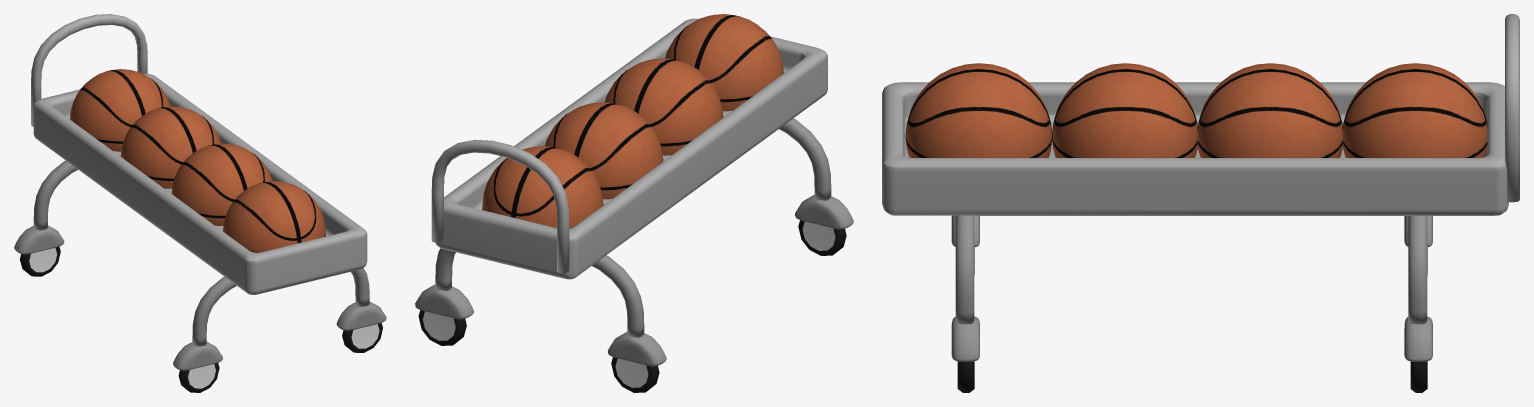
The model's file is Ball_stand.fbx.
The picture shows the model from 3 angles, left to right: view 1: azimuth 30°, elevation 25°; view 2: azimuth 150°, elevation 25°; view 3: azimuth 270°, elevation 25°; orthographic projection. The views are drawn at different scales.
Parts seen in each view (by area): view 1: Ball_stand, Ball_01, Ball_02, Ball_03, Ball_04; view 2: Ball_stand, Ball_01, Ball_02, Ball_03, Ball_04; view 3: Ball_stand, Ball_01, Ball_02, Ball_03, Ball_04.
Part boxes in pixels (box(x1,y1,x2,y2)): Ball_stand: box(14, 14, 386, 392); Ball_01: box(223, 181, 325, 252); Ball_02: box(171, 143, 272, 225); Ball_03: box(120, 106, 221, 188); Ball_04: box(70, 69, 170, 151); Ball_stand: box(415, 18, 853, 392); Ball_01: box(665, 14, 783, 111); Ball_02: box(605, 58, 723, 155); Ball_03: box(545, 102, 663, 199); Ball_04: box(482, 146, 603, 228); Ball_stand: box(882, 14, 1519, 392); Ball_01: box(905, 63, 1052, 157); Ball_02: box(1052, 63, 1197, 157); Ball_03: box(1198, 63, 1342, 157); Ball_04: box(1343, 63, 1487, 157).
Size of the model in its own units: 13.84 by 13.55 by 25.59.
7 materials, 1 textured.
